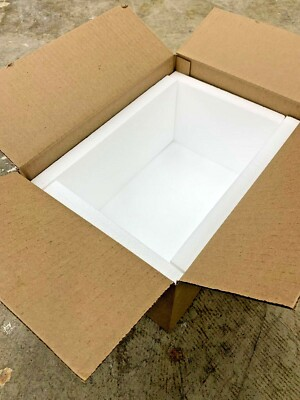Boxes: (34, 73, 297, 280)
